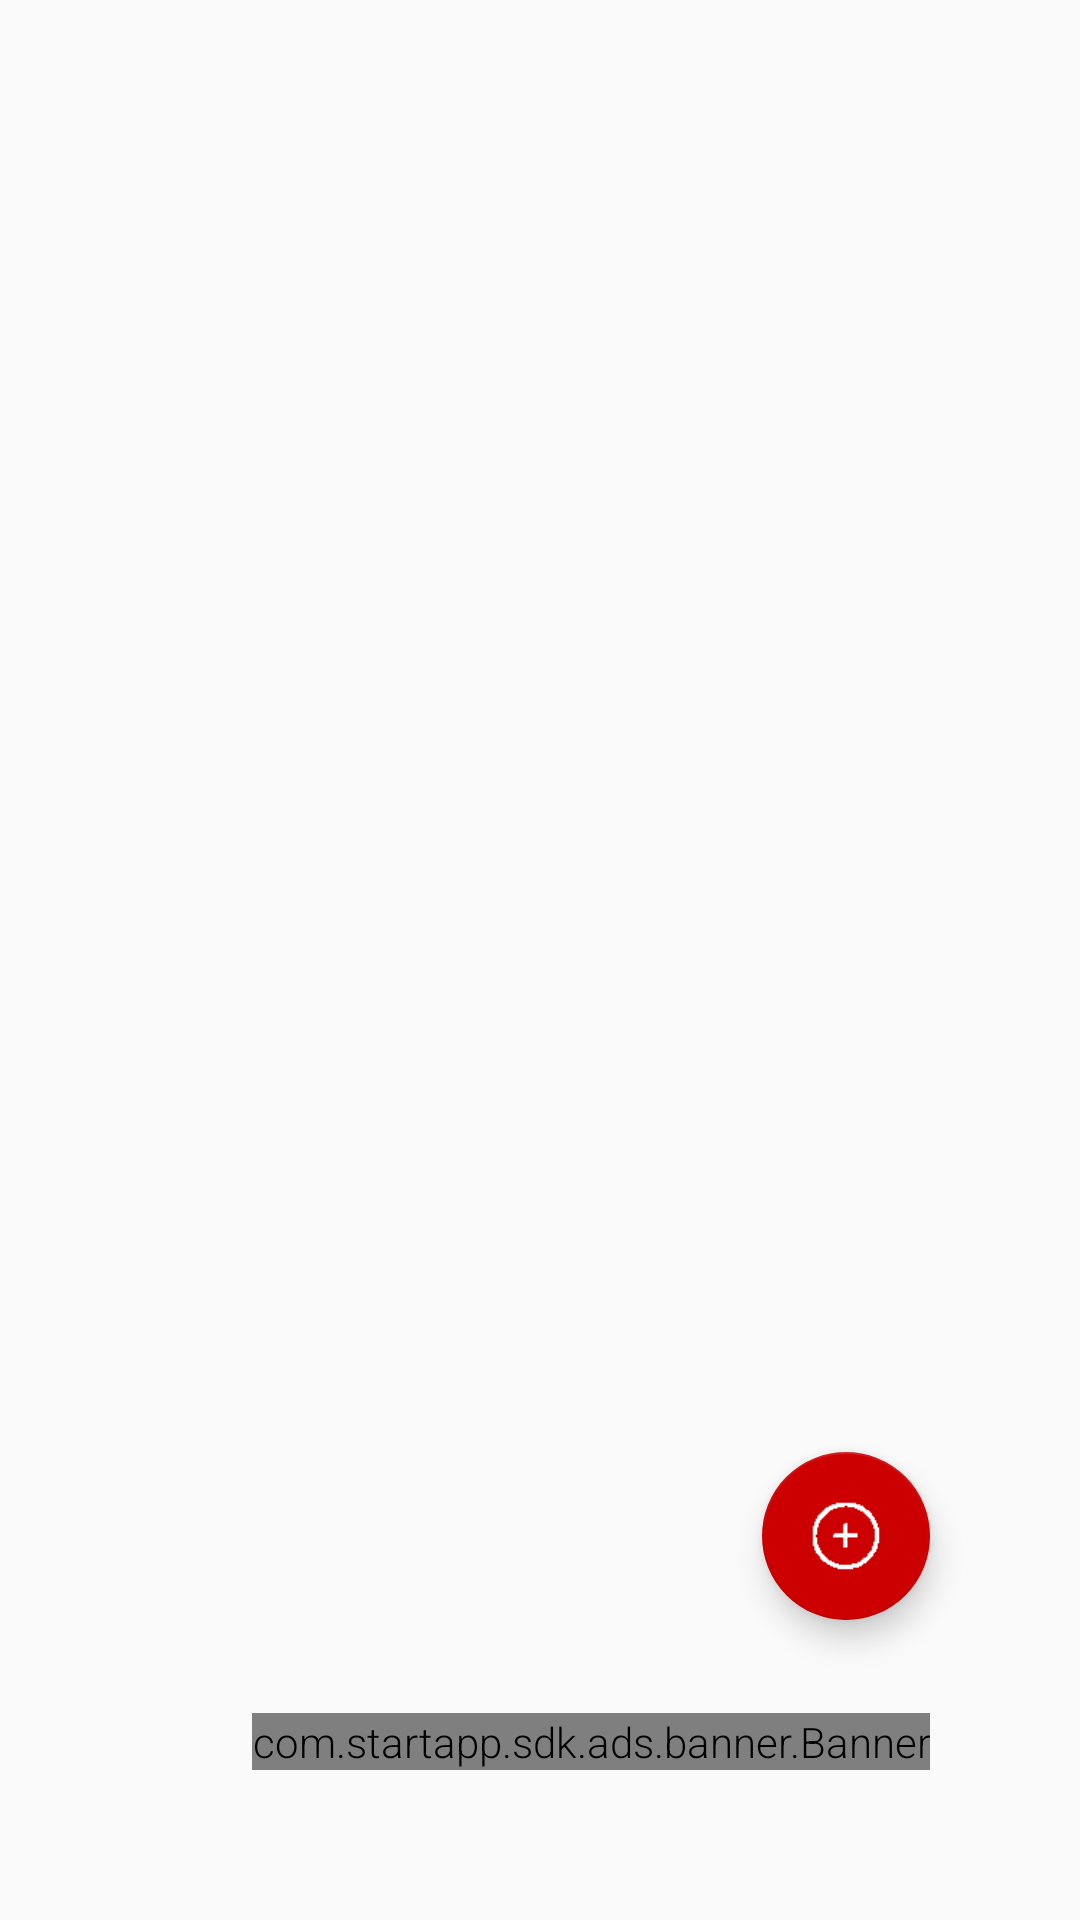

Screen size 1080×1920. Icon name, then its center in pixels as (x=x, y=y):
New Car: (x=846, y=1536)
